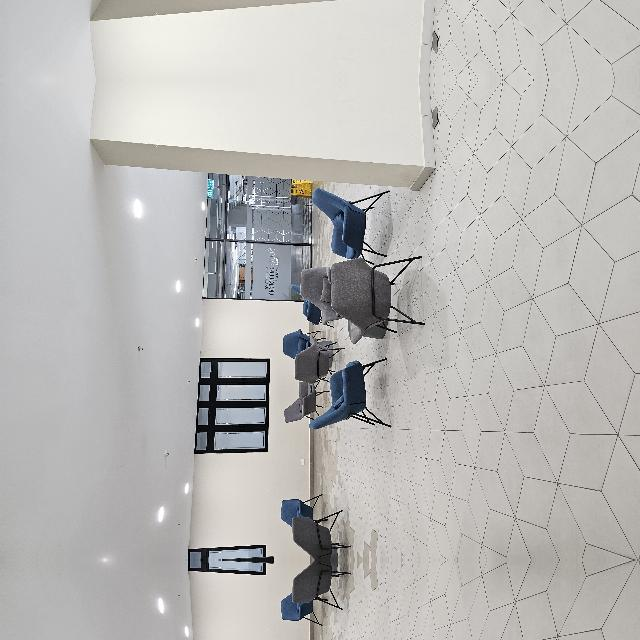obstacle: (127, 389, 370, 507), (127, 613, 370, 640)
